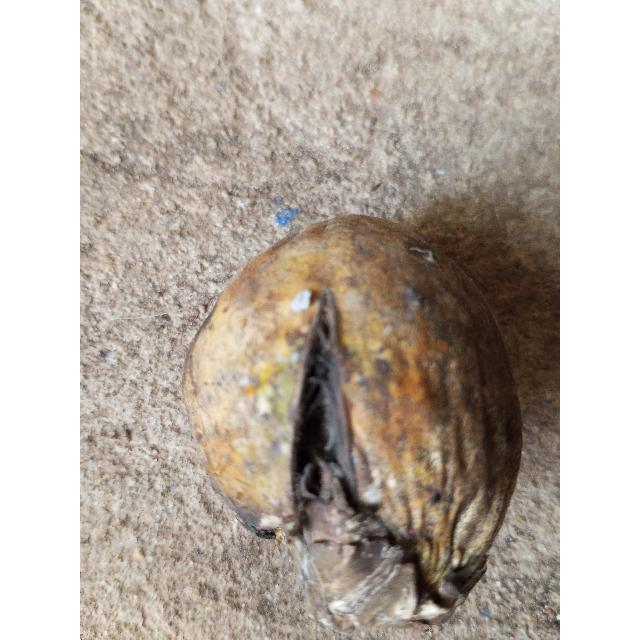damaged: (181, 216, 523, 627)
